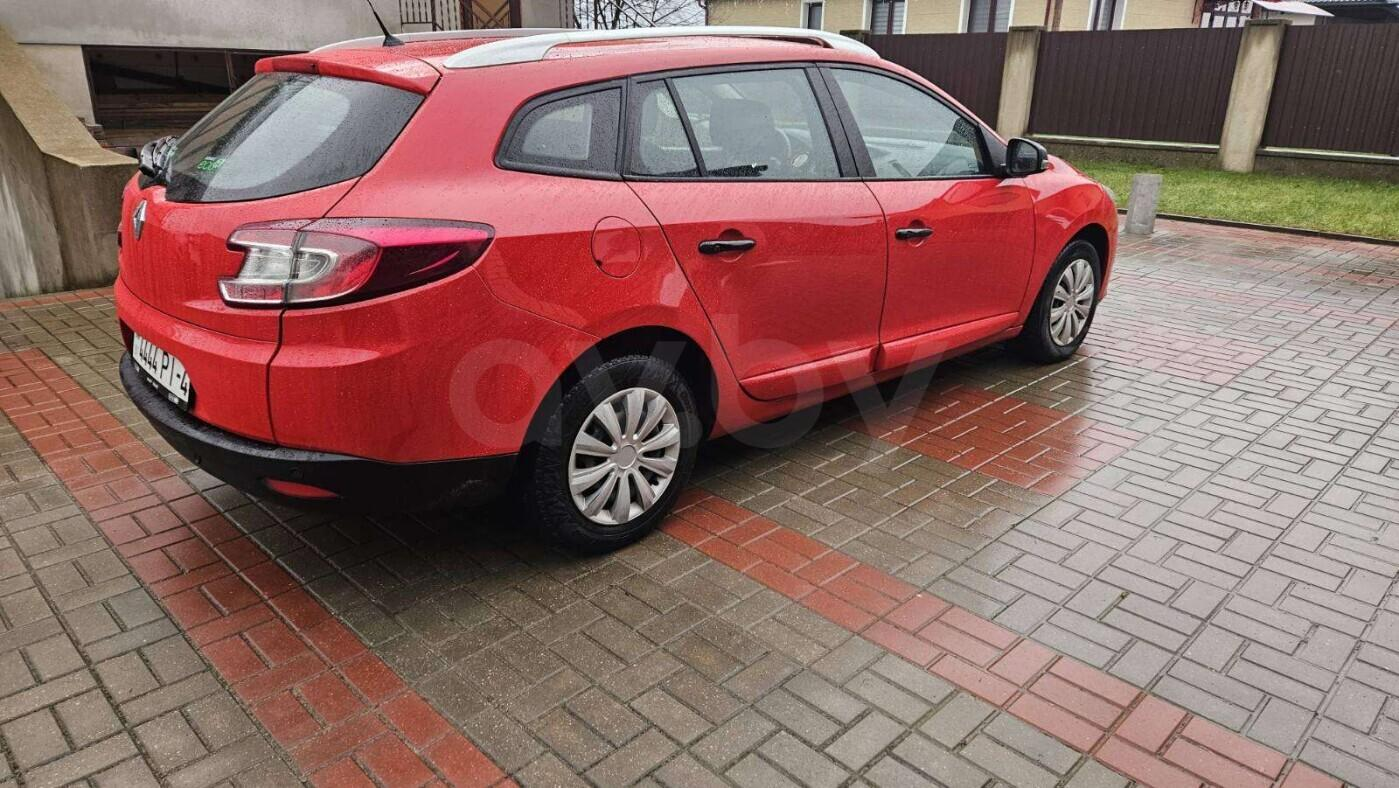Megane_2012-2014: (107, 28, 1119, 546)
